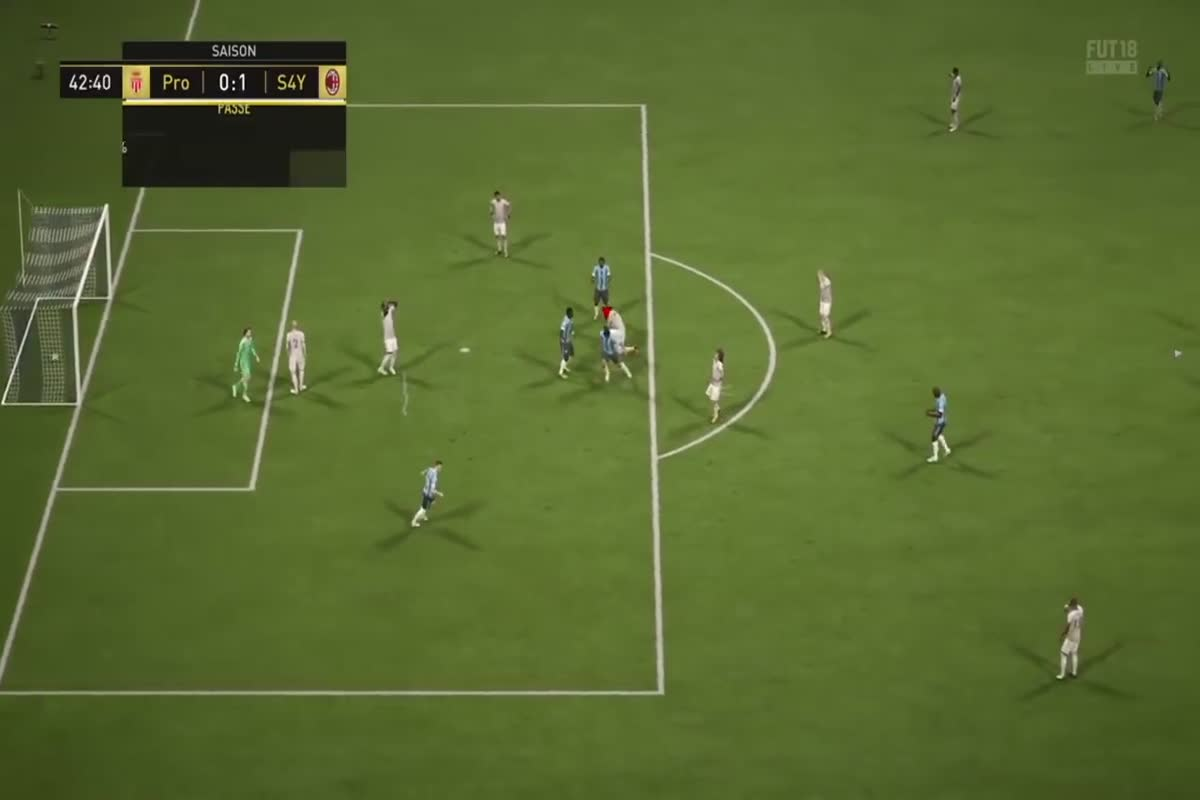ball: (41, 347, 67, 368)
